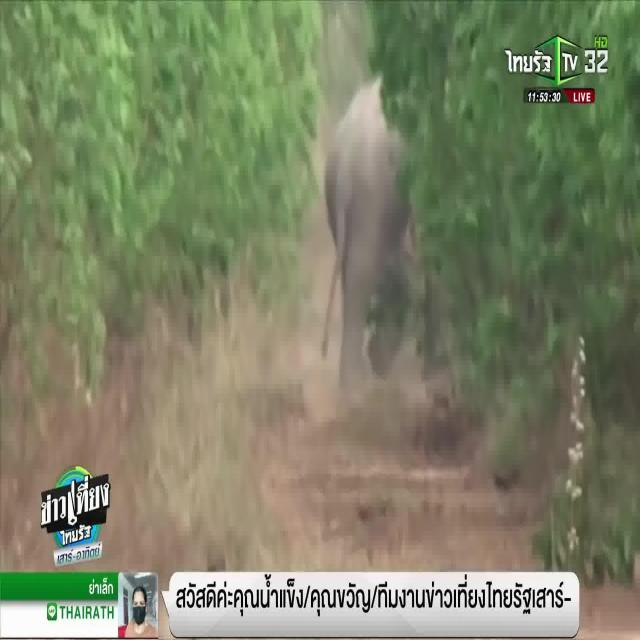Elephant: (323, 78, 406, 292)
